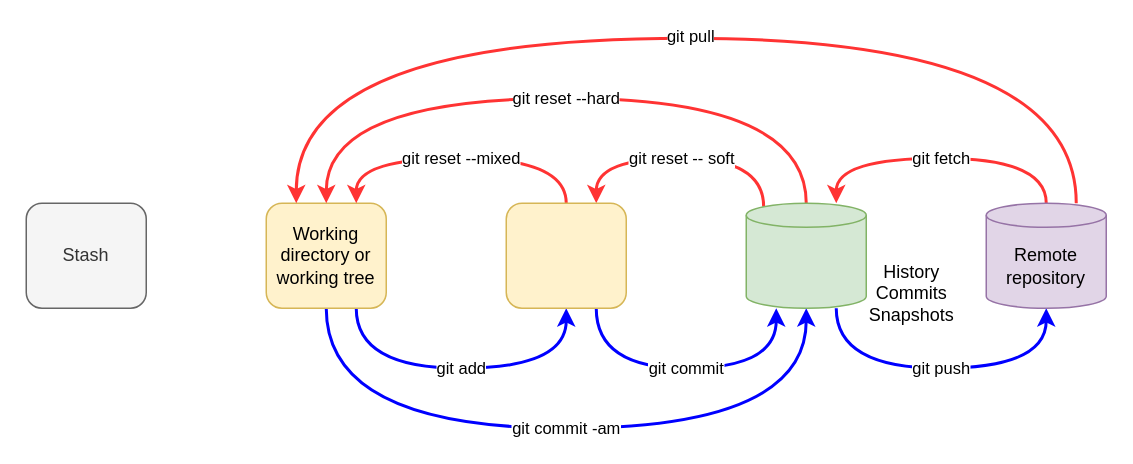
Some shapes in this 1133 by 464 pixel diagram are drawn without their labels. The shapes that lost their labels are listed below. From the top down, each one's centre as x and y in pixels, then its label:
At (x=565, y=255): "Staging area or index".
At (x=805, y=255): "Local repository".
